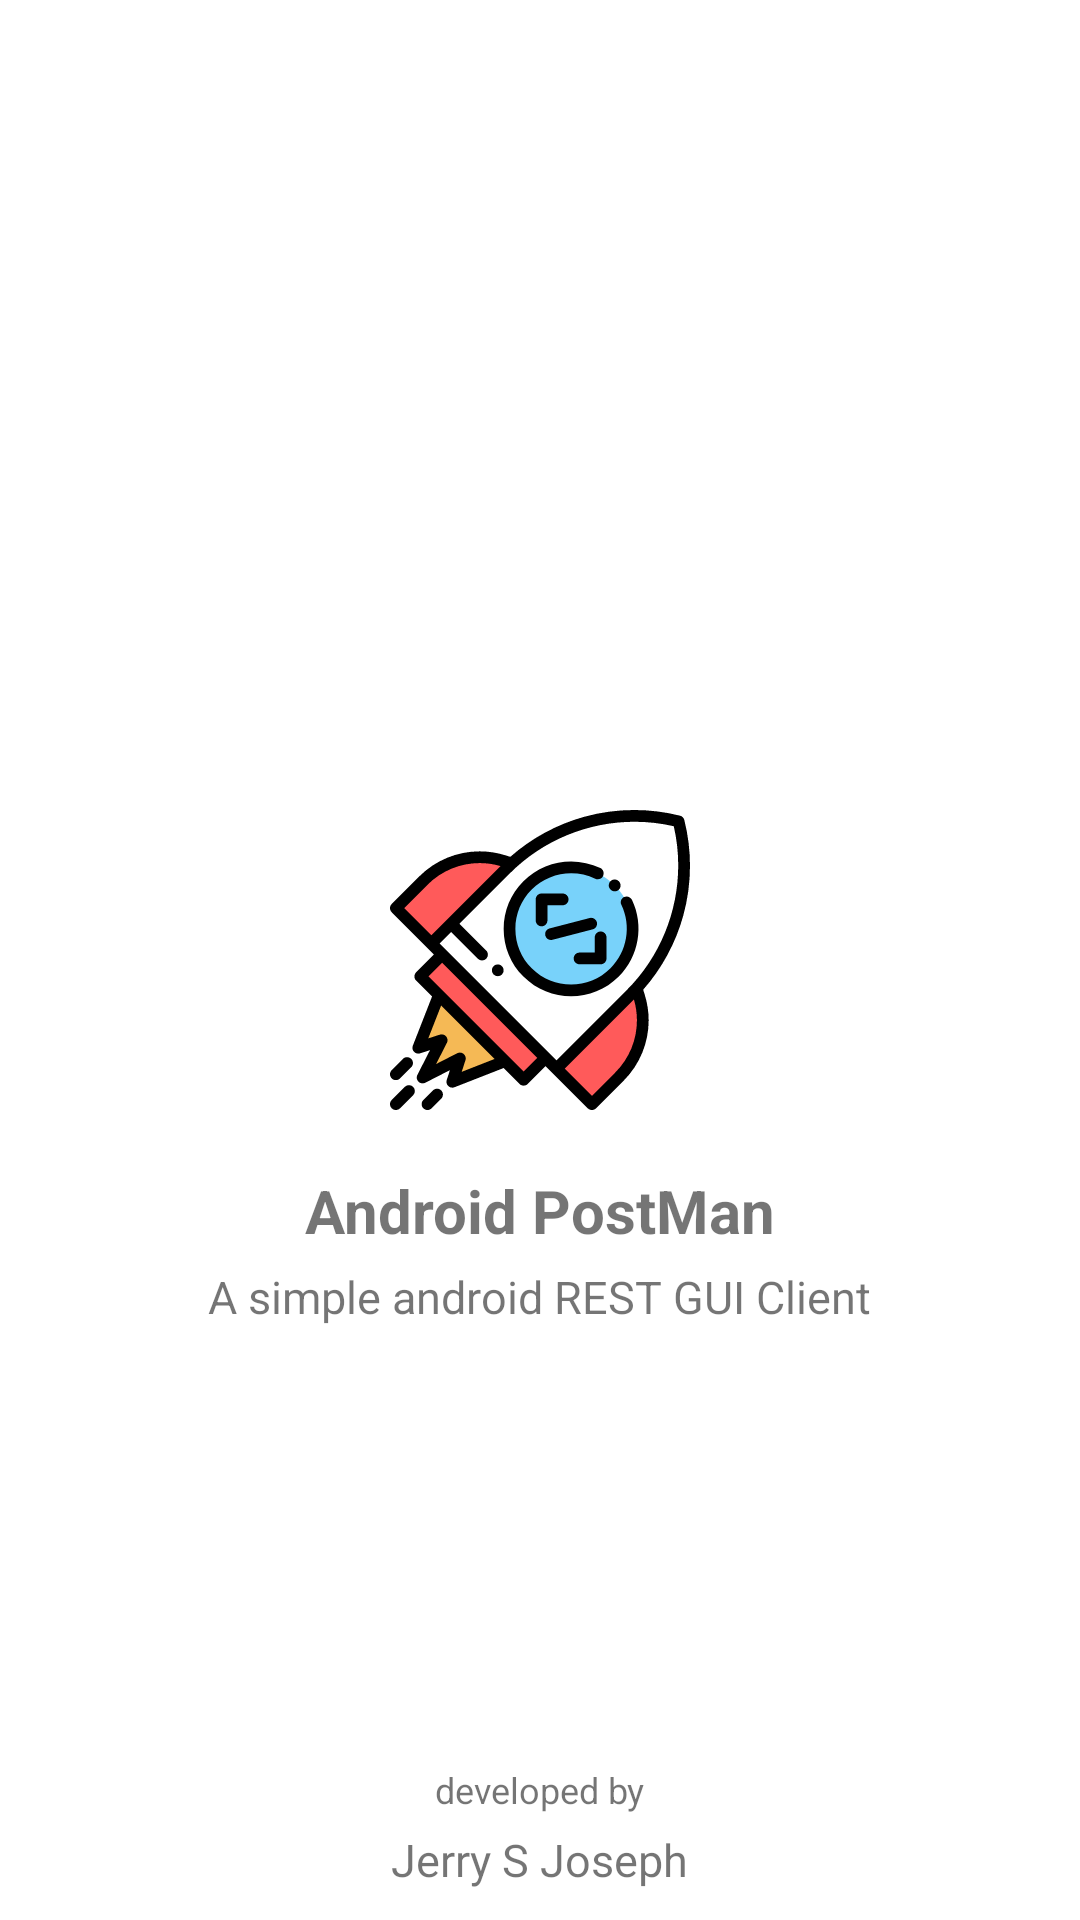

Named icons in this screenshot (1080 x 1920) and their bounding boxes, (x1, y1, x2, y2):
rocket: (390, 810, 690, 1110)
